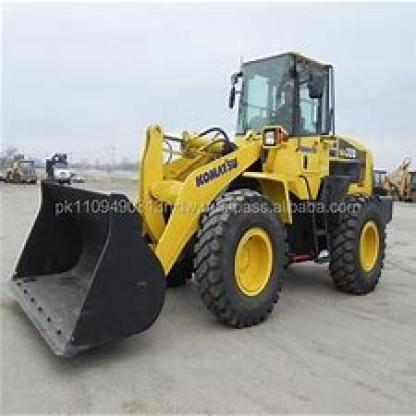bull_dozer/loader/grader: (6, 39, 400, 366)
